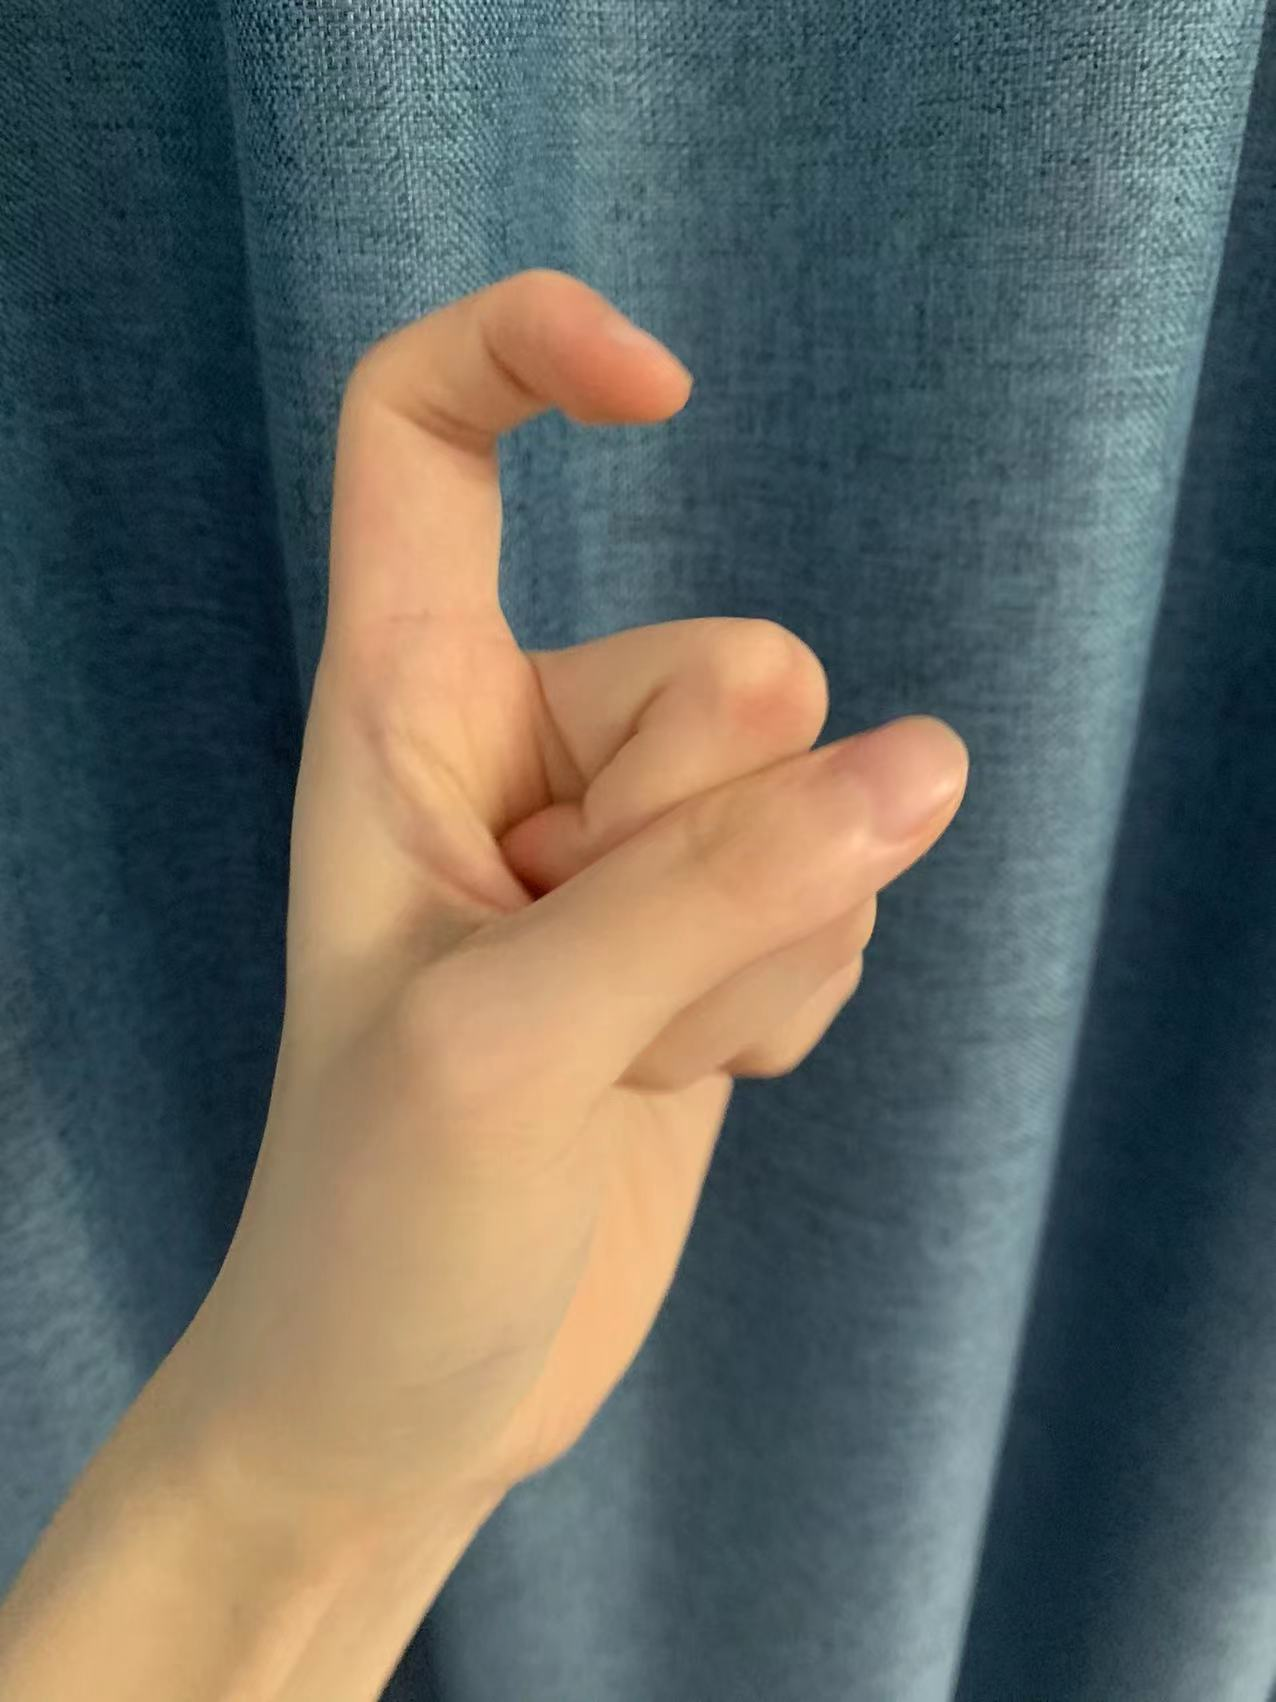anticlockwise: (154, 260, 1021, 1459)
